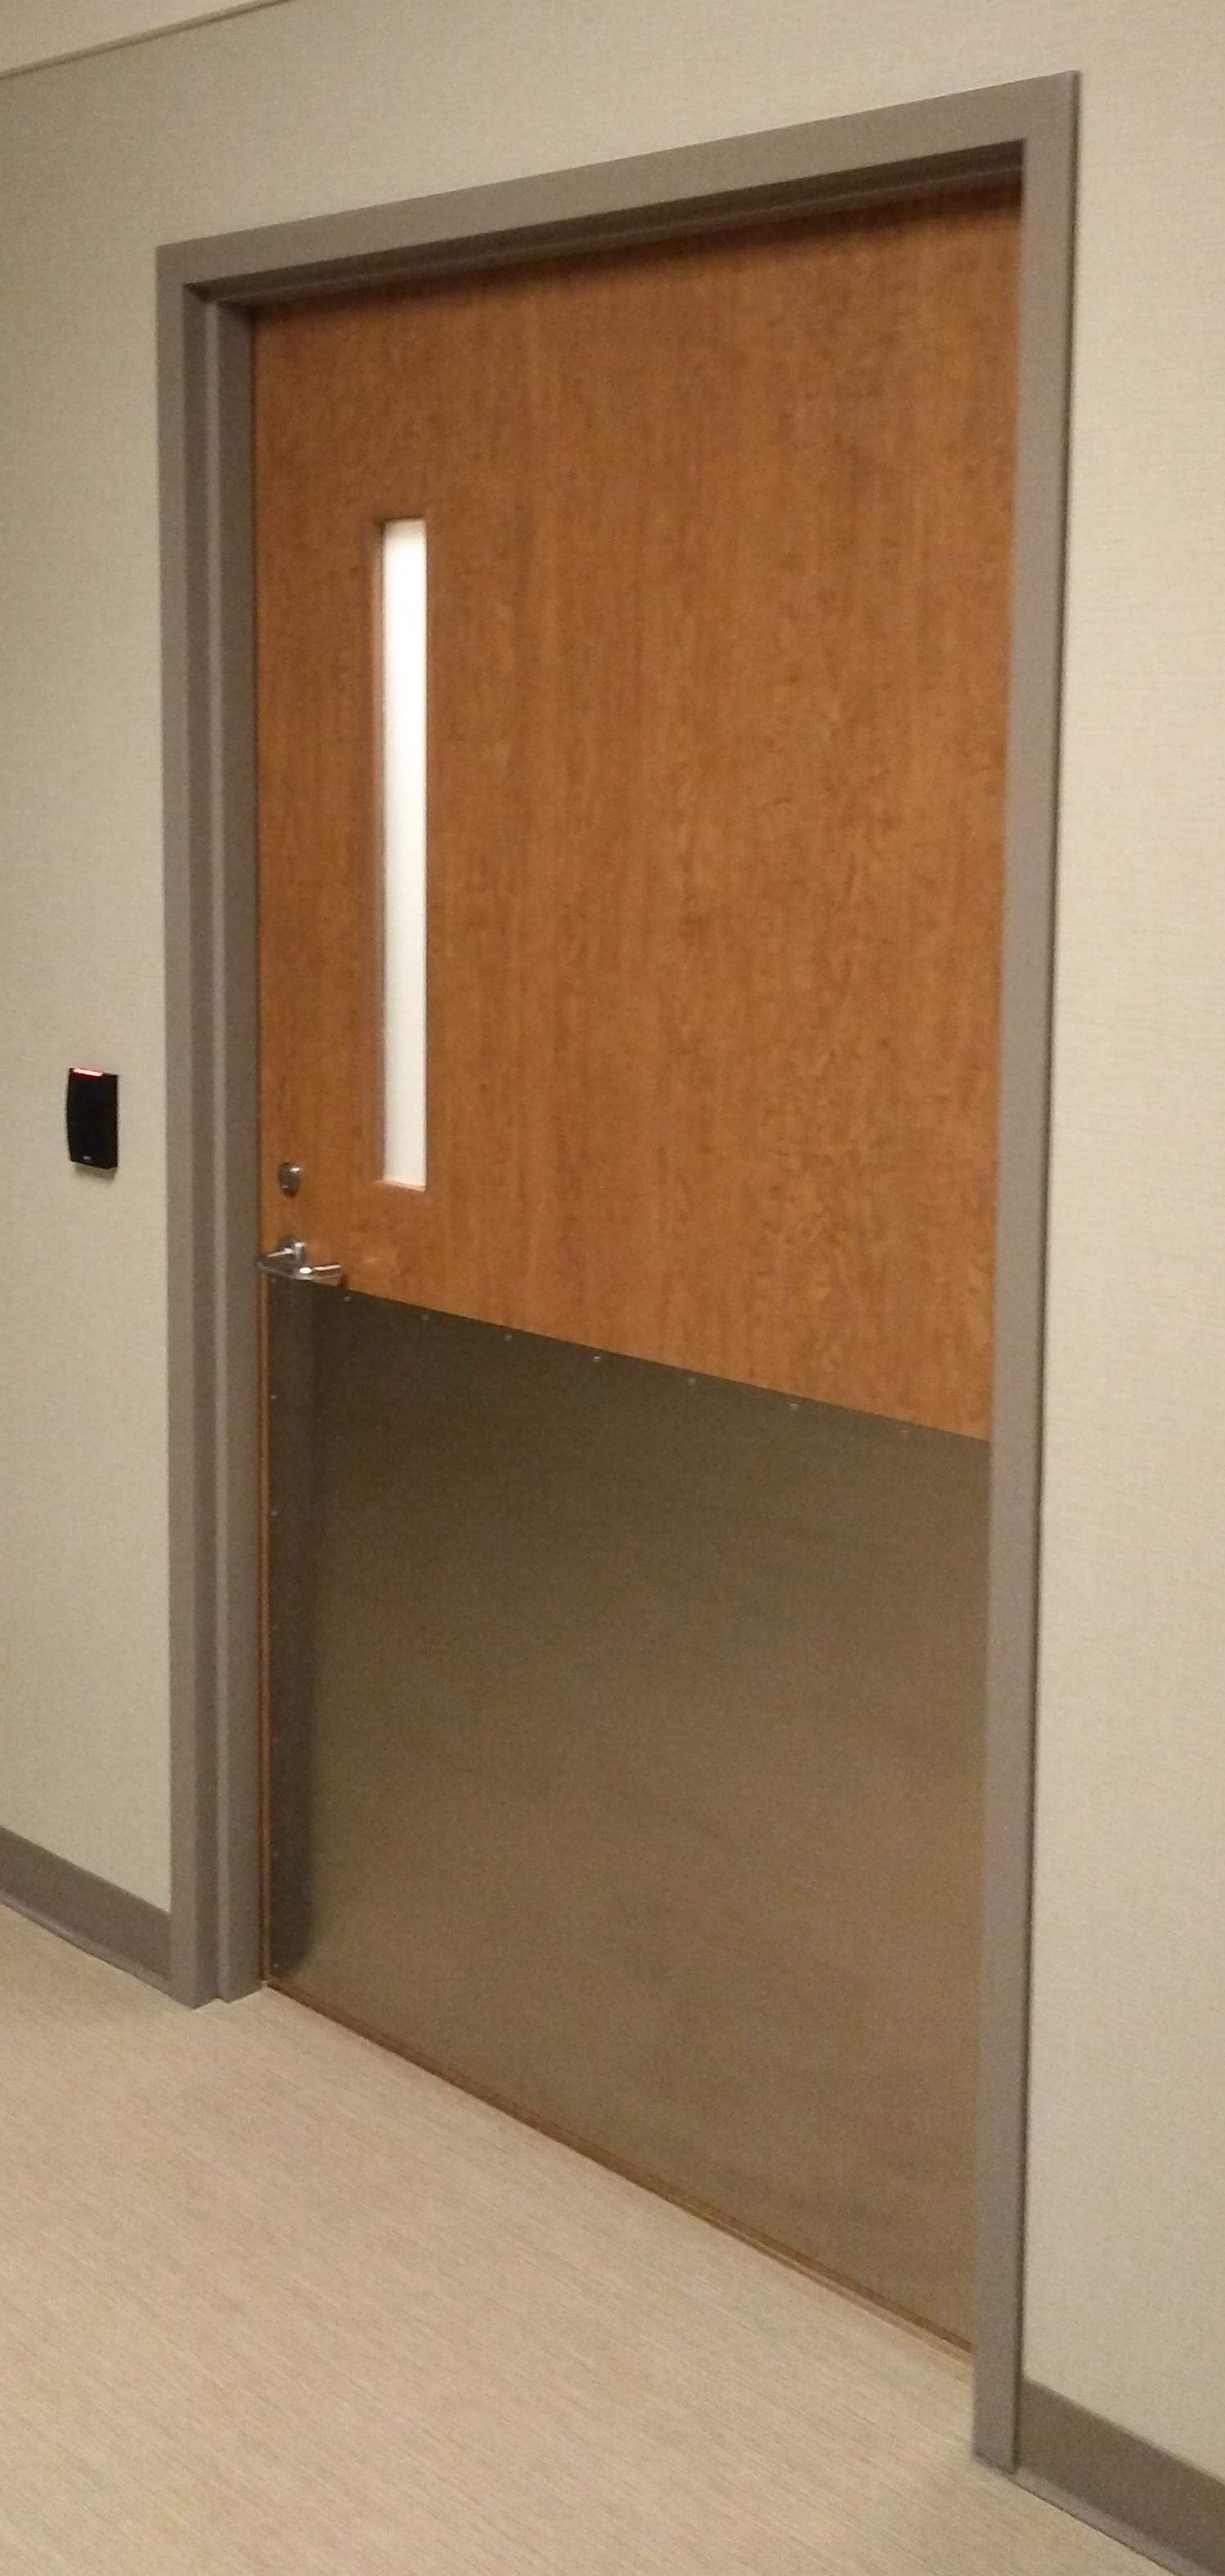door: (161, 145, 1049, 2333)
